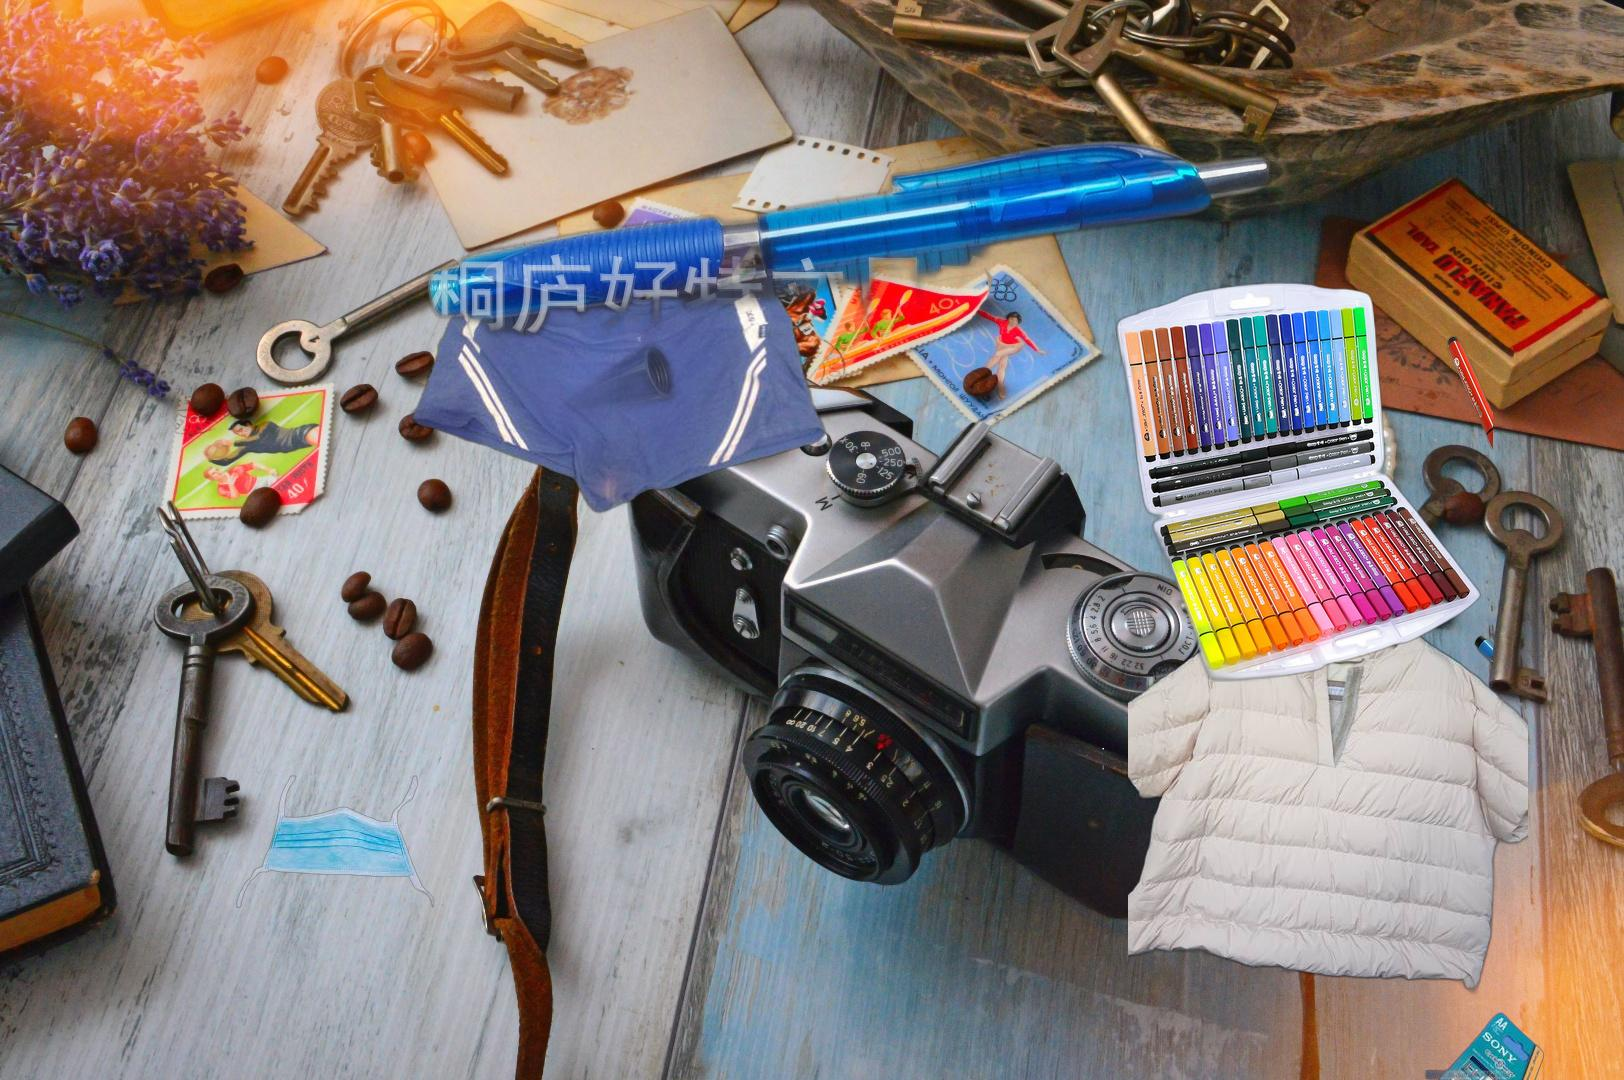battery: (1413, 1010, 1547, 1080)
clothes: (1128, 565, 1528, 1000), (406, 259, 831, 517)
penholder: (419, 133, 1279, 448), (1093, 282, 1493, 682)
trash: (234, 773, 437, 910)
trashbox-cardboard: (592, 749, 1104, 1080)
